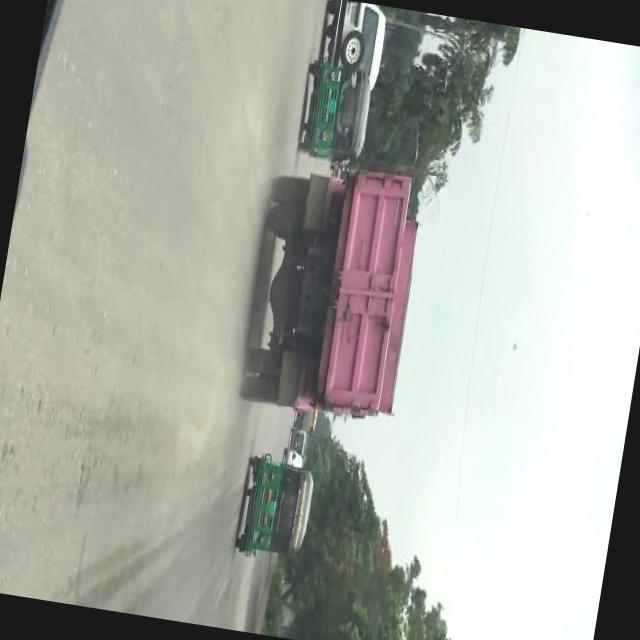car: (317, 0, 389, 74), (289, 426, 306, 450), (284, 448, 304, 464)
motorcycle: (229, 449, 317, 567), (294, 56, 376, 166)
truck: (234, 149, 433, 436)
